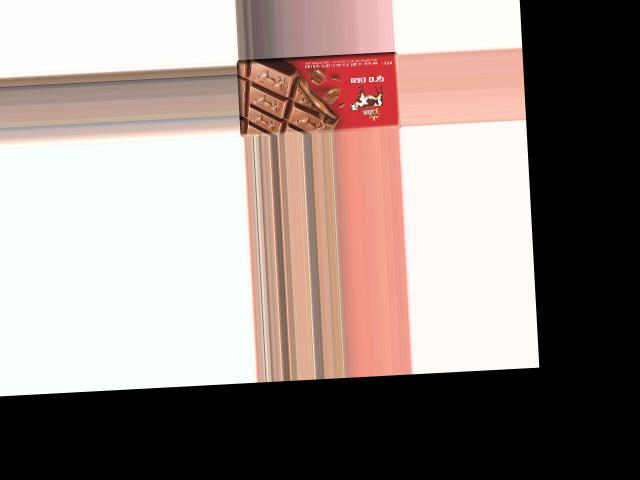chocolate: (238, 52, 401, 136)
